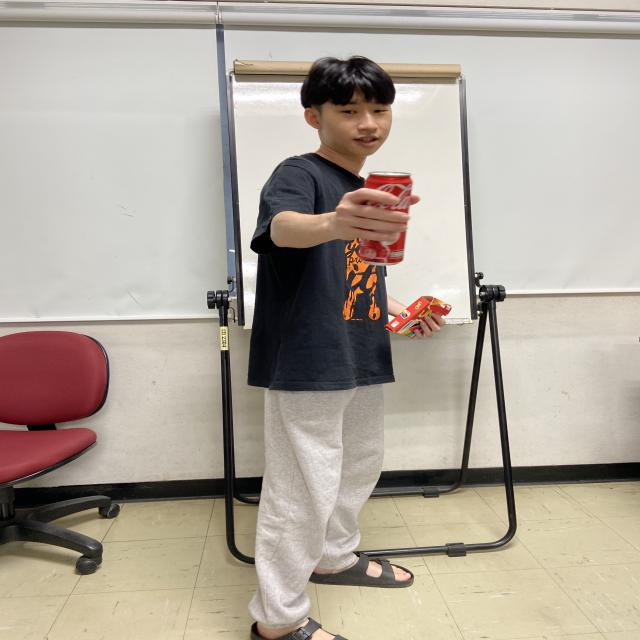can: (353, 169, 417, 266)
